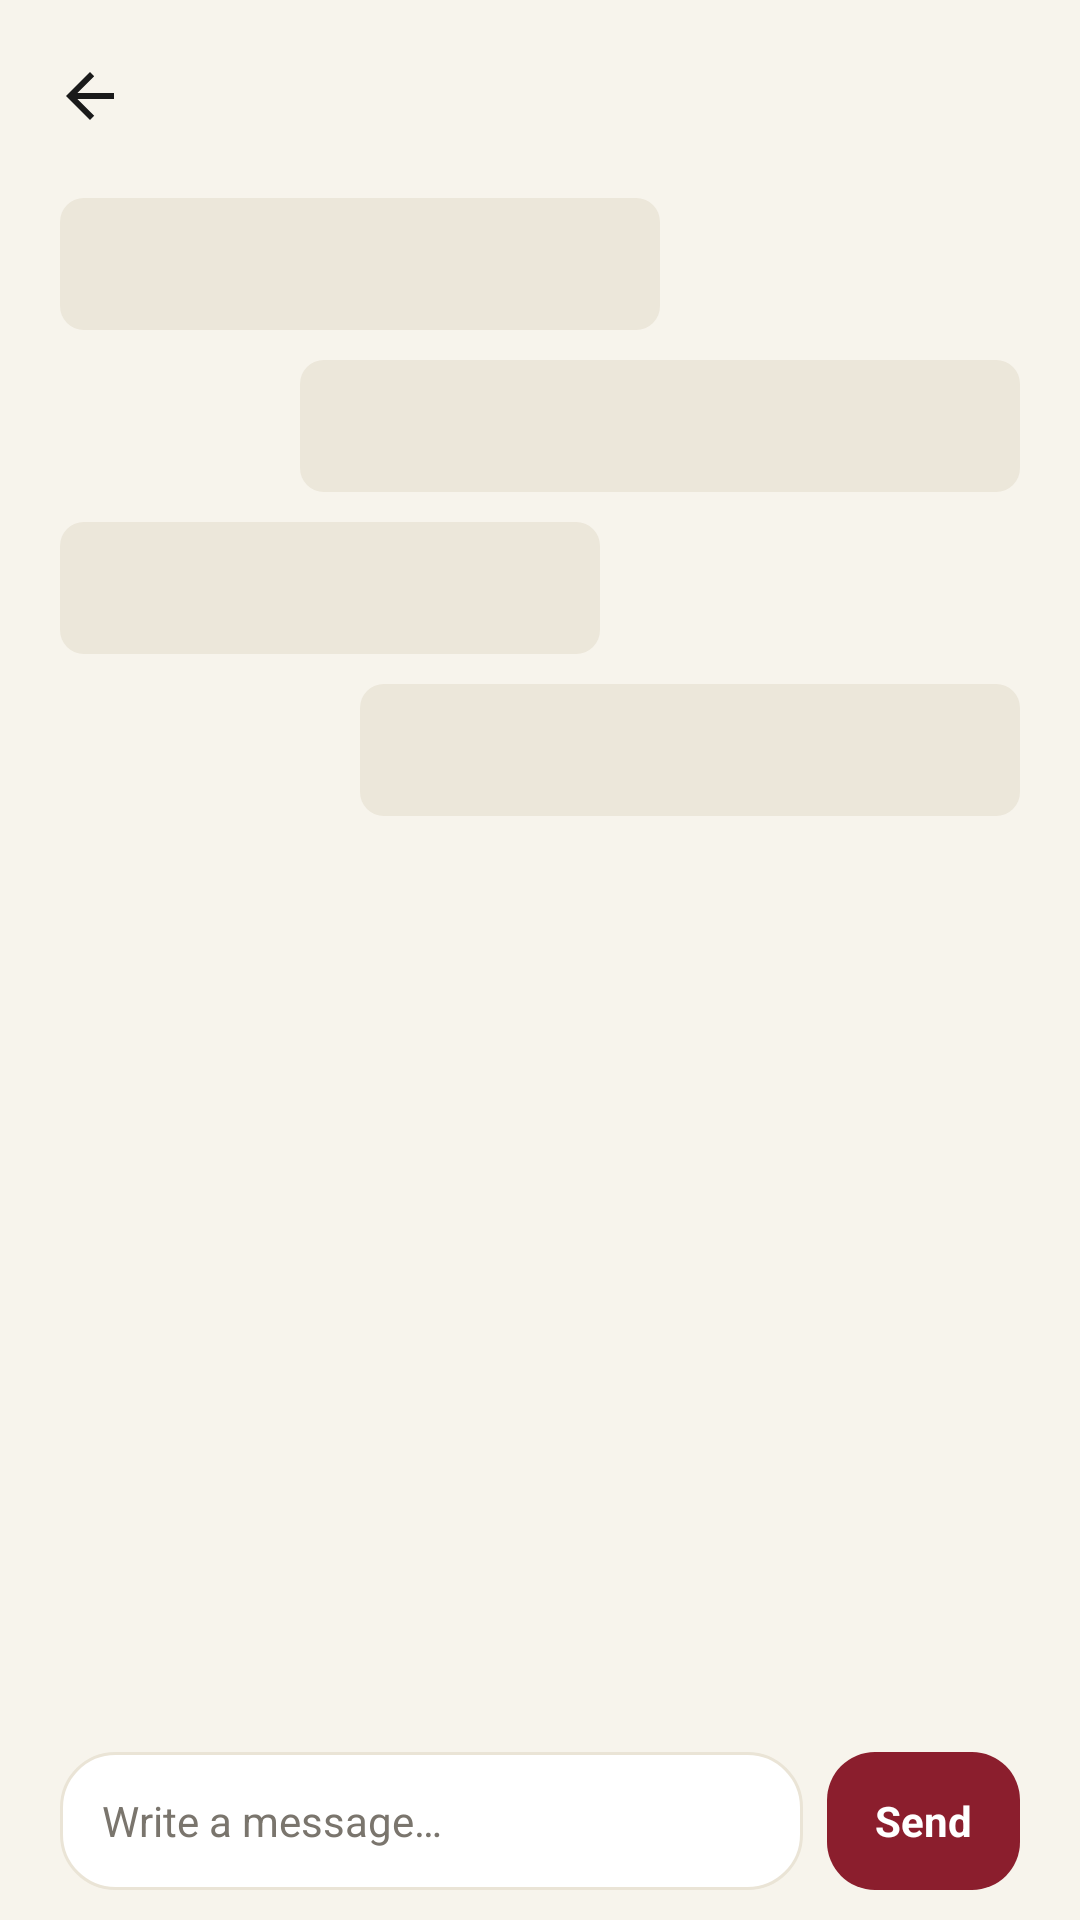

Icon click points for this 1080px×1920px phone screenshot, format point (x, y):
Back: point (90, 96)
